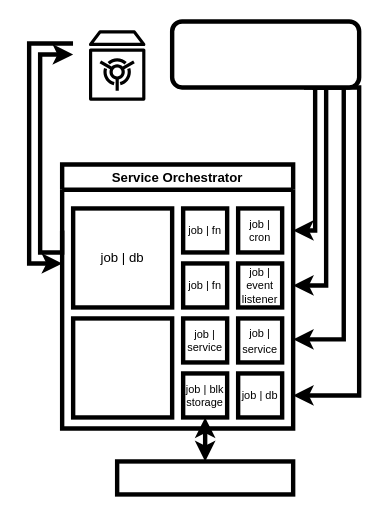
Some shapes in this 388 by 515 pixel diagram are drawn without their labels. Here are the shapes that lost their labels. From the top down, the centre of each, then its label:
At pixel 116 65: "Secrets Management".
At pixel 265 54: "Service Discovery / Reverse Proxy".
At pixel 122 367: "job | api".
At pixel 204 477: "Block Storage".
